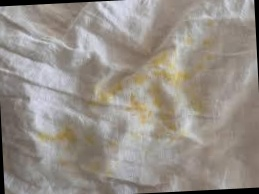mustard: (91, 66, 144, 110), (183, 84, 212, 126), (168, 58, 201, 86), (155, 101, 179, 137), (58, 163, 105, 179), (147, 49, 170, 80), (132, 94, 156, 123), (143, 84, 164, 112), (41, 127, 77, 143), (80, 136, 111, 148), (202, 37, 218, 54), (184, 36, 195, 45), (203, 21, 216, 27)
